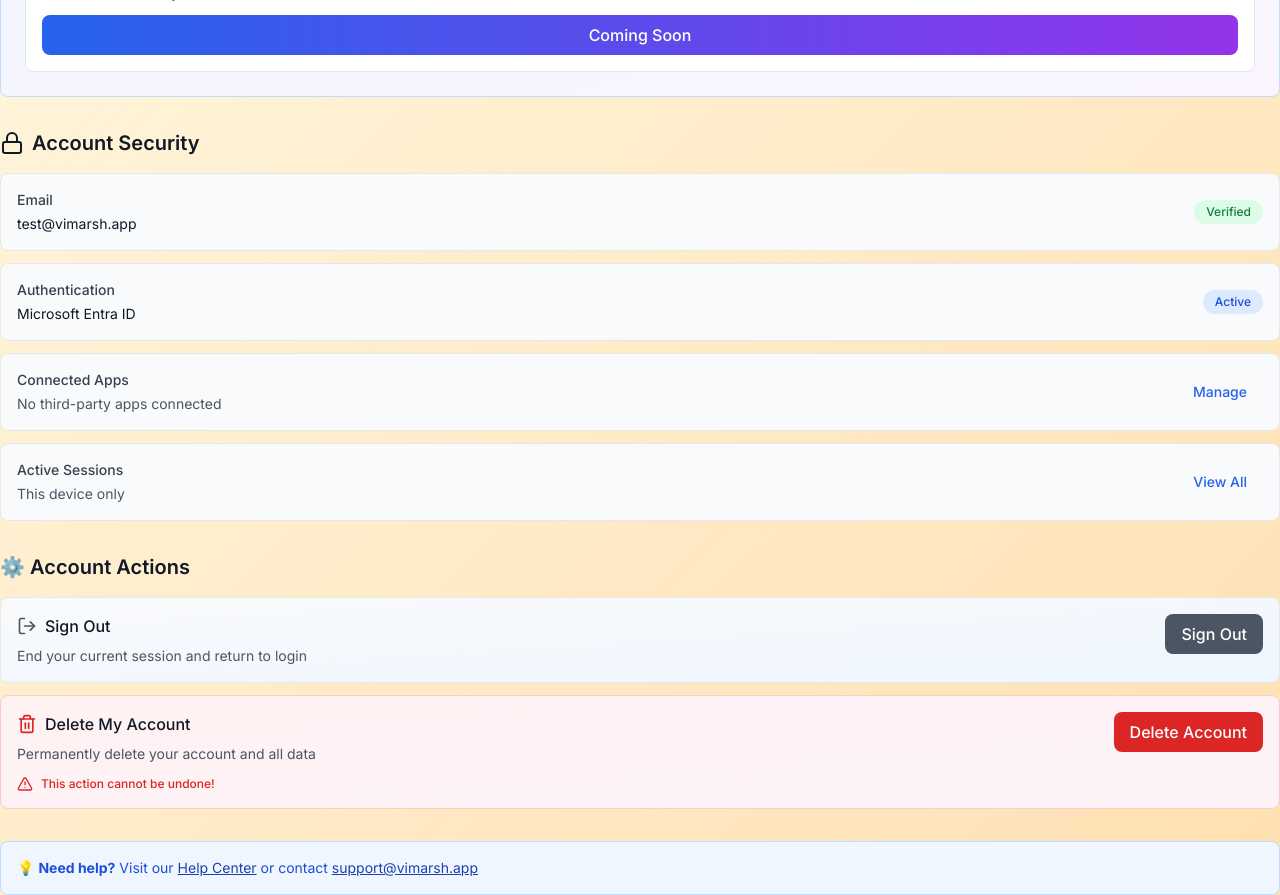
Test: AccountTab › Delete Account Flow › shows confirmation modal when delete account clicked
The image size is (1280, 895).
(page scrolled)
Click the button "Delete Account".
click(1188, 732)  # box [1114,712,1263,752]
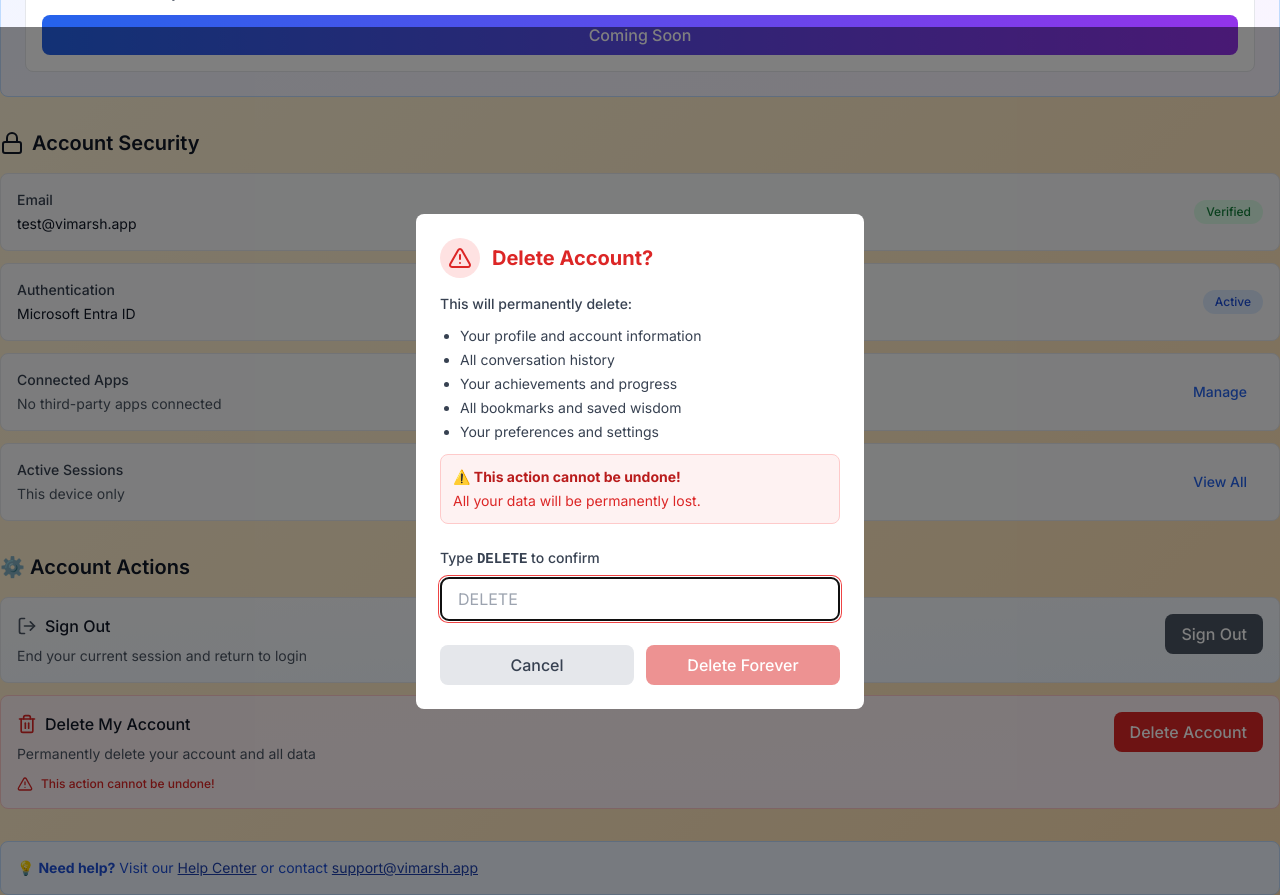
expect the heading "Delete Account?" is shown: met, box [492,244,653,272]
